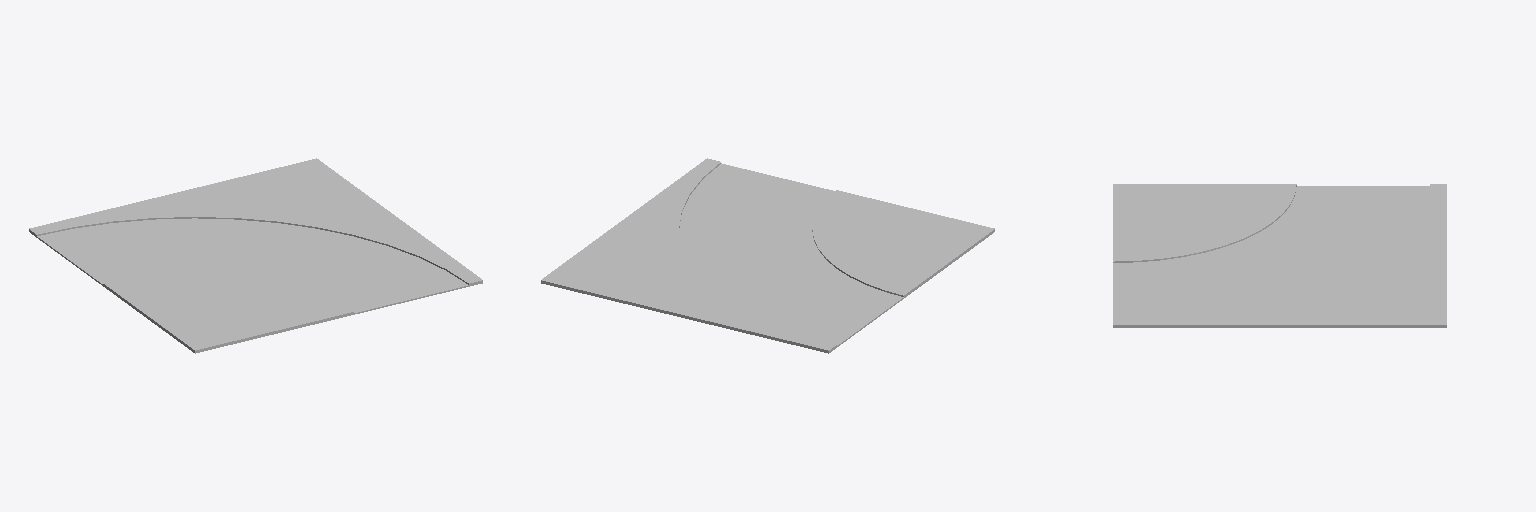
File: road_curvePavement.obj
3 renders of one model, left to right at view 1: azimuth 30°, elevation 25°; view 2: azimuth 150°, elevation 25°; view 3: azimuth 270°, elevation 25°, orthographic.
Parts seen in each view (by area): view 1: road_curvePavement; view 2: road_curvePavement; view 3: road_curvePavement.
Boxes of the visible parts, <box> form: road_curvePavement: <box>29,158,482,353</box>; road_curvePavement: <box>541,158,994,353</box>; road_curvePavement: <box>1113,184,1446,327</box>.
Size of the model in its own units: 2 by 0.02 by 2.